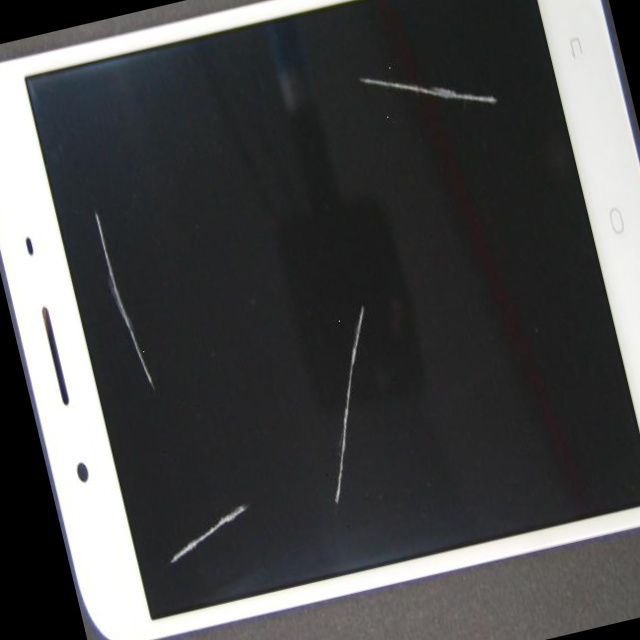scratch: (138, 219, 497, 640), (86, 0, 640, 256), (9, 42, 180, 373)
